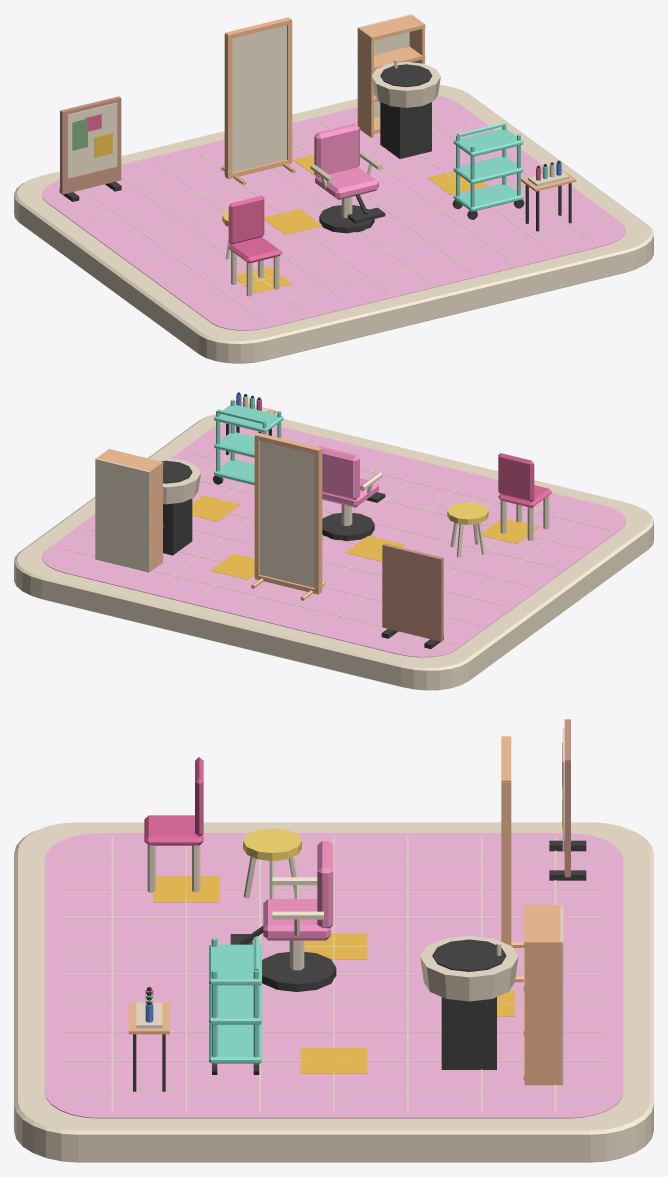
3 renders of one model, top to bottom at view 1: azimuth 30°, elevation 25°; view 2: azimuth 150°, elevation 25°; view 3: azimuth 270°, elevation 25°, orthographic. The views are drawn at different scales.
Parts seen in each view (by area): view 1: COM-02 Floor Surface, COM-01 Rounded Base Direct, Mirror face, Pedestal, Canvas, Panel, Back, Bowl, Side, Backrest, Seat, Frame (+16 smaller); view 2: COM-02 Floor Surface, COM-01 Rounded Base Direct, Mirror face, Back.001, Panel, Back, Backrest, Pedestal, Frame, Side, Base, Tray.002 (+14 smaller); view 3: COM-02 Floor Surface, COM-01 Rounded Base Direct, Side.001, Pedestal, Bowl, Base, Seat, Tray.002, Inset, Geometric color tile.003, Tray.001, Tray (+15 smaller).
Part boxes in pixels (box(x1,y1,x2,y2)): COM-02 Floor Surface: box(42, 95, 625, 330); COM-01 Rounded Base Direct: box(14, 85, 653, 363); Mirror face: box(232, 25, 286, 172); Pedestal: box(380, 102, 431, 158); Canvas: box(67, 103, 117, 178); Panel: box(60, 96, 121, 194); Back: box(314, 123, 359, 176); Bowl: box(371, 61, 440, 107); Side: box(358, 27, 373, 137); Backrest: box(228, 195, 264, 244); Seat: box(315, 167, 378, 199); Frame: box(224, 34, 232, 177); COM-02 Floor Surface: box(42, 423, 625, 657); COM-01 Rounded Base Direct: box(14, 414, 653, 690); Mirror face: box(260, 441, 314, 587); Back.001: box(95, 458, 150, 572); Panel: box(382, 543, 443, 641); Back: box(318, 446, 359, 499); Backrest: box(498, 453, 534, 501); Pedestal: box(163, 498, 192, 555); Frame: box(314, 450, 322, 593); Side: box(148, 461, 162, 571); Base: box(322, 513, 374, 540); Tray.002: box(214, 404, 283, 432); COM-02 Floor Surface: box(44, 833, 623, 1118); COM-01 Rounded Base Direct: box(14, 822, 653, 1162); Side.001: box(524, 940, 561, 1085); Pedestal: box(441, 997, 496, 1069); Bowl: box(420, 936, 518, 1001); Base: box(262, 952, 336, 991); Seat: box(263, 899, 330, 940); Tray.002: box(209, 944, 261, 985); Inset: box(432, 939, 506, 971); Geometric color tile.003: box(300, 1047, 367, 1073); Tray.001: box(209, 984, 261, 1024); Tray: box(209, 1023, 261, 1063).
Bounding box in the file's own units: 6 × 2.15 × 5.2.
1 material, 1 textured.
